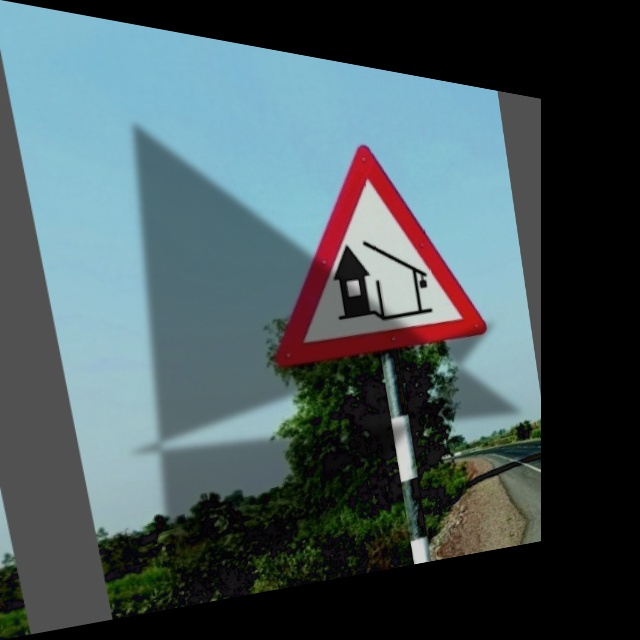Barrier_Ahead: (240, 112, 488, 379)
